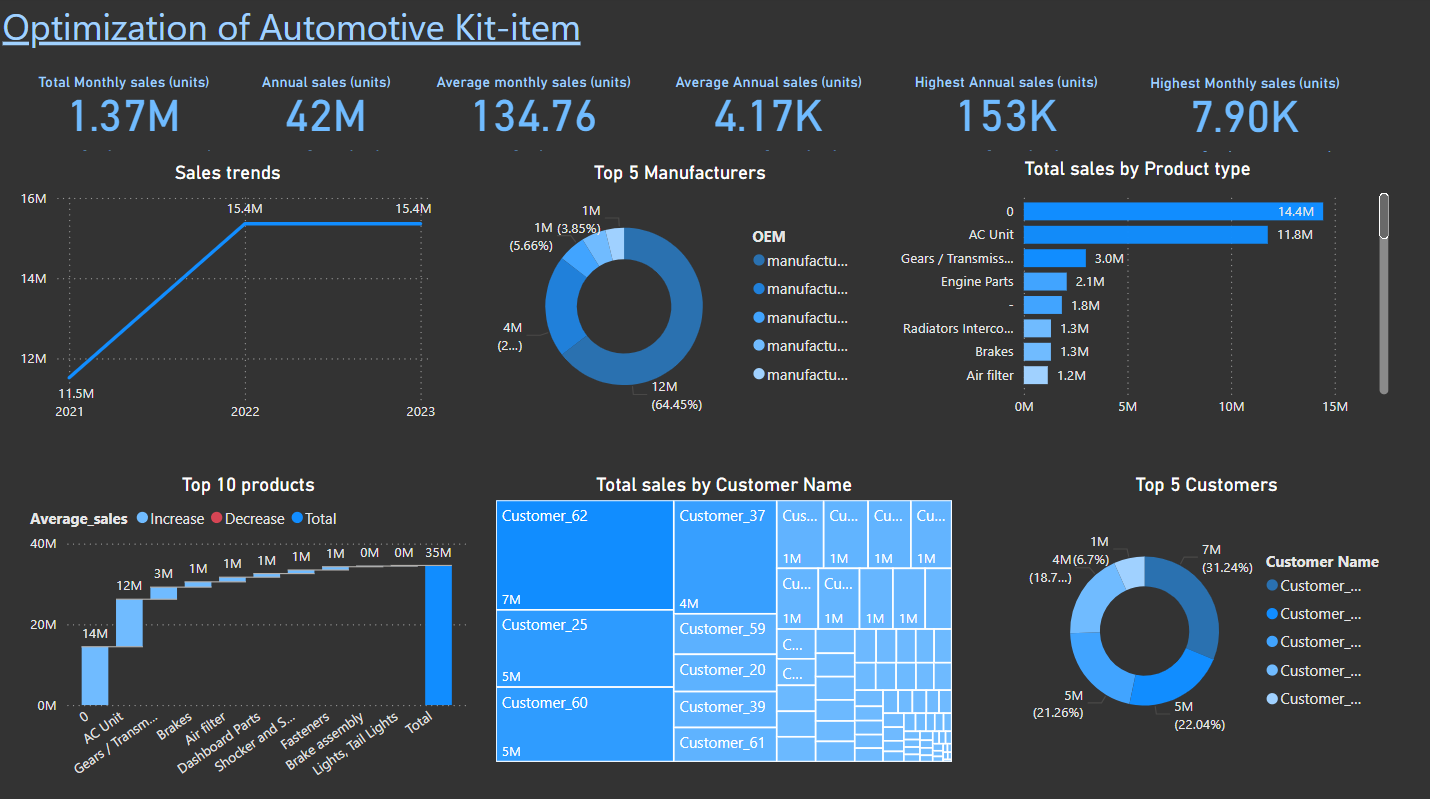

Layout of this report page (visuals, bound fields, positions):
{"tool":"powerbi","page":{"name":"Page 2","canvas":[1280,720],"ordinal":1},"visuals":[{"type":"textbox","box":[0,0,545.4,57.7],"z":0},{"type":"lineChart","title":"Sales trends","fields":{"Category":["new_data.Date.Variation.Date Hierarchy.Year","new_data.Date.Variation.Date Hierarchy.Quarter","new_data.Date.Variation.Date Hierarchy.Month","new_data.Date.Variation.Date Hierarchy.Day"],"Y":["Sum(new_data.Total sales)"]},"box":[15.9,147.2,380.9,242.4],"z":1000},{"type":"barChart","title":"Total sales by Product type","fields":{"Category":["new_data.Product type"],"Y":["Sum(new_data.Total sales)"]},"box":[789.2,144.3,458.8,240.9],"z":2000},{"type":"treemap","title":"Total sales by Customer Name","fields":{"Values":["Sum(new_data.Total sales)"],"Group":["new_data.Customer Name"]},"box":[441.5,427.1,417,262.6],"z":3000},{"type":"donutChart","title":"Top 5 Manufacturers","fields":{"Y":["Sum(new_data.Total sales)"],"Category":["new_data.OEM"]},"box":[441.5,147.2,337.6,240.9],"z":4000},{"type":"donutChart","title":"Top 5 Customers","fields":{"Y":["Sum(new_data.Total sales)"],"Category":["new_data.Customer Name"]},"box":[911.8,427.1,336.2,262.6],"z":5000},{"type":"waterfallChart","title":"Top 10 products","fields":{"Category":["new_data.Product type"],"Y":["Sum(new_data.Total sales)"]},"box":[24.5,427.1,399.6,282.8],"z":6000},{"type":"card","title":"Total Monthly sales (units)","fields":{"Values":["Sum(new_data.sales per month)"]},"box":[15.9,69.3,194.8,73.6],"z":7000},{"type":"card","title":"Annual sales (units)","fields":{"Values":["Sum(new_data.Total sales)"]},"box":[196.2,69.3,194.8,73.6],"z":8000},{"type":"card","title":"Average monthly sales (units)","fields":{"Values":["Avg(new_data.sales per month)"]},"box":[382.3,69.3,194.8,73.6],"z":9000},{"type":"card","title":"Average Annual sales (units)","fields":{"Values":["Avg(new_data.Total sales)"]},"box":[591.5,69.3,194.8,73.6],"z":10000},{"type":"card","title":"Highest Annual sales (units)","fields":{"Values":["Max(new_data.Total sales)"]},"box":[803.6,69.3,194.8,73.6],"z":11000},{"type":"card","title":"Highest Monthly sales (units)","fields":{"Values":["Max(new_data.sales per month)"]},"box":[1017.1,70.7,194.8,73.6],"z":12000}]}

Visuals, with their boxes in screenshot pixels (x1, y1, x2, y2), scaled from the page's 1280x720 canvas onto the 1430x799 screenshot:
textbox: left=0, top=0, right=609, bottom=64
"Sales trends" lineChart: left=18, top=163, right=443, bottom=432
"Total sales by Product type" barChart: left=882, top=160, right=1394, bottom=427
"Total sales by Customer Name" treemap: left=493, top=474, right=959, bottom=765
"Top 5 Manufacturers" donutChart: left=493, top=163, right=870, bottom=431
"Top 5 Customers" donutChart: left=1019, top=474, right=1394, bottom=765
"Top 10 products" waterfallChart: left=27, top=474, right=474, bottom=788
"Total Monthly sales (units)" card: left=18, top=77, right=235, bottom=159
"Annual sales (units)" card: left=219, top=77, right=437, bottom=159
"Average monthly sales (units)" card: left=427, top=77, right=645, bottom=159
"Average Annual sales (units)" card: left=661, top=77, right=878, bottom=159
"Highest Annual sales (units)" card: left=898, top=77, right=1115, bottom=159
"Highest Monthly sales (units)" card: left=1136, top=78, right=1354, bottom=160
